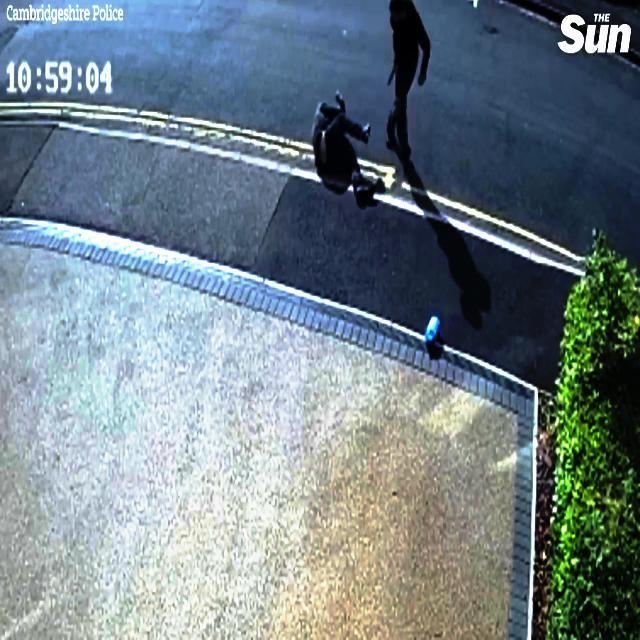Knife: (378, 59, 400, 92)
